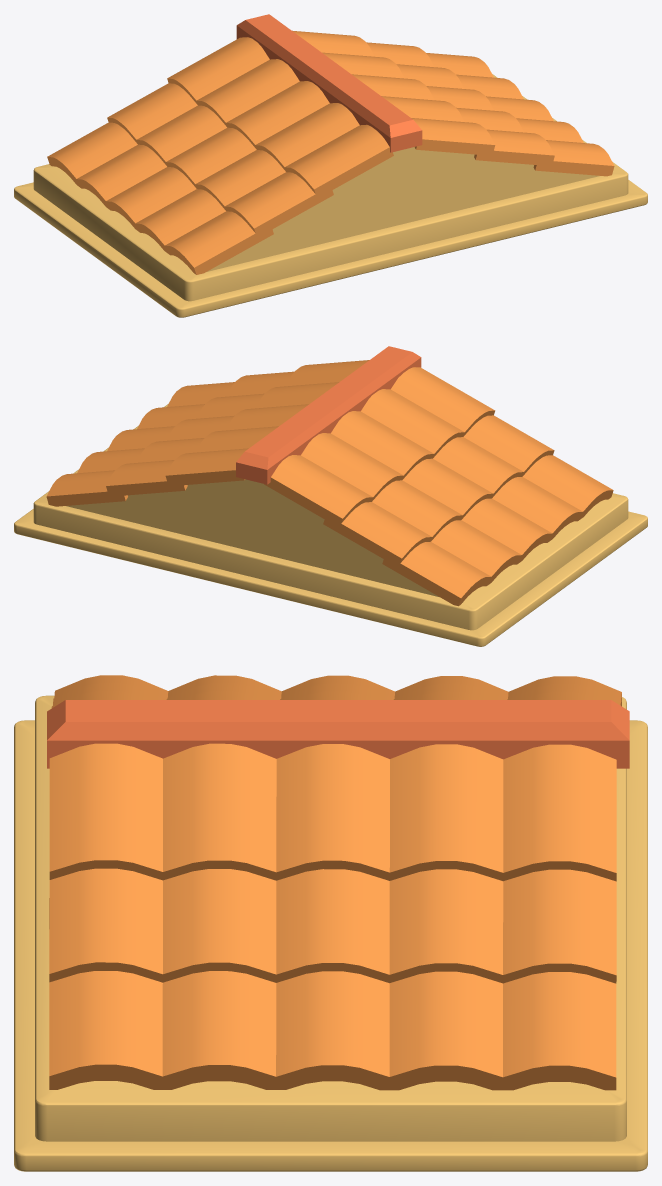
The model's file is roof.glb.
The picture shows the model from 3 angles, top to bottom: view 1: azimuth 30°, elevation 25°; view 2: azimuth 150°, elevation 25°; view 3: azimuth 270°, elevation 25°; orthographic projection. The views are drawn at different scales.
Parts seen in each view (by area): view 1: c??a?1e??.009, c??a?1e??.005, c??a?1e??.014, c??a?1e??.005_1, c??a?1e??.013; view 2: c??a?1e??.009, c??a?1e??.005, c??a?1e??.014, c??a?1e??.005_1, c??a?1e??.013; view 3: c??a?1e??.014, c??a?1e??.005, c??a?1e??.013, c??a?1e??.009, c??a?1e??.005_1.
Part boxes in pixels (x1=…): c??a?1e??.009: x1=47, y1=37, x2=393, y2=274; c??a?1e??.005: x1=14, y1=74, x2=647, y2=317; c??a?1e??.014: x1=292, y1=30, x2=614, y2=176; c??a?1e??.005_1: x1=54, y1=147, x2=599, y2=271; c??a?1e??.013: x1=236, y1=14, x2=422, y2=152; c??a?1e??.009: x1=264, y1=367, x2=613, y2=606; c??a?1e??.005: x1=14, y1=404, x2=647, y2=646; c??a?1e??.014: x1=46, y1=360, x2=369, y2=506; c??a?1e??.005_1: x1=66, y1=479, x2=603, y2=602; c??a?1e??.013: x1=236, y1=346, x2=421, y2=484; c??a?1e??.014: x1=49, y1=743, x2=616, y2=1090; c??a?1e??.005: x1=14, y1=695, x2=647, y2=1171; c??a?1e??.013: x1=47, y1=700, x2=629, y2=768; c??a?1e??.009: x1=51, y1=675, x2=621, y2=708; c??a?1e??.005_1: x1=62, y1=1081, x2=598, y2=1088.
Bounding box in the file's own units: 11.82 × 3.1 × 7.28.
